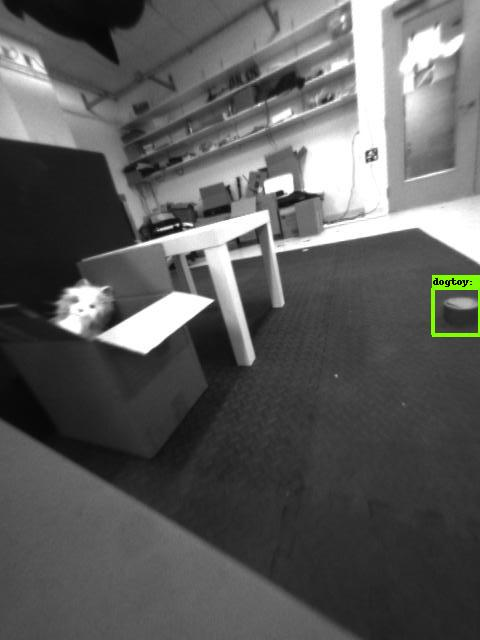dogtoy: (433, 292, 480, 330)
